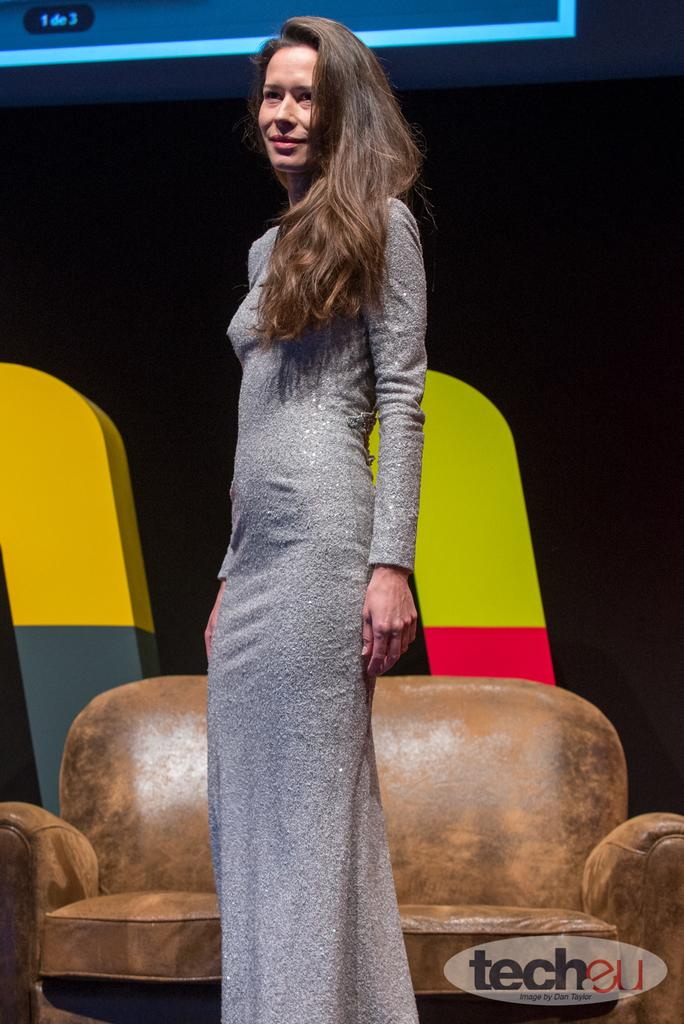Chair: (0, 676, 683, 1023)
